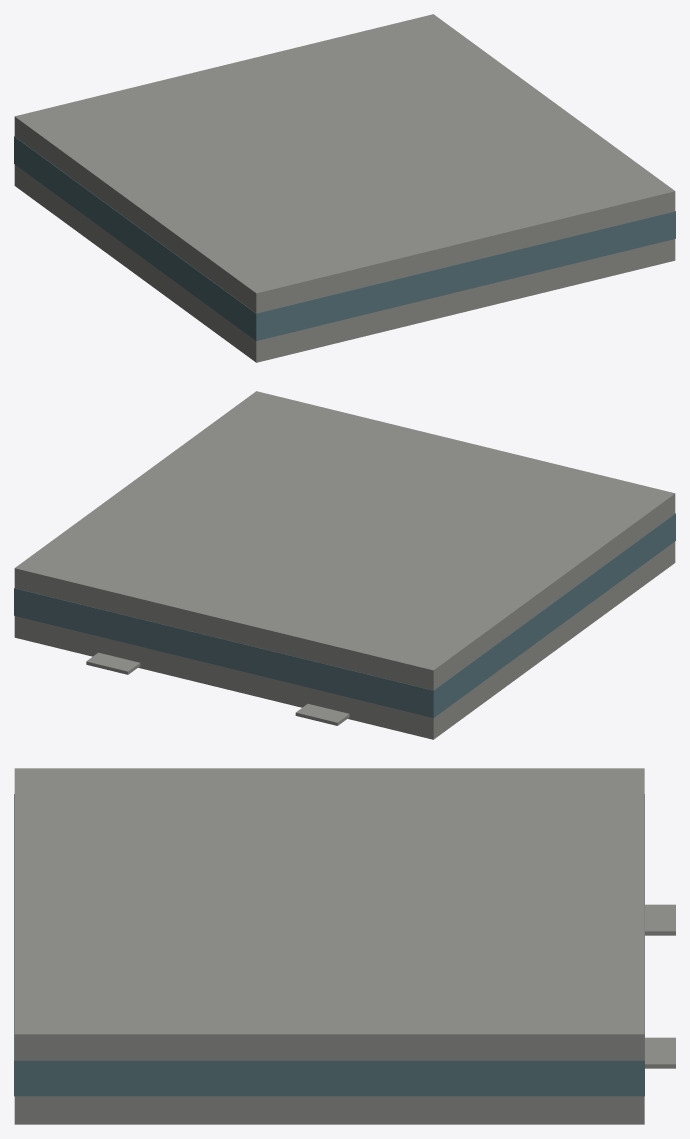
Rendered from tw_slab_24_floor_lod1.glb.
The picture shows the model from 3 angles, top to bottom: view 1: azimuth 30°, elevation 25°; view 2: azimuth 150°, elevation 25°; view 3: azimuth 270°, elevation 25°; orthographic projection. The views are drawn at different scales.
Visible parts, largest first — view 1: tw_slab_24_floor_lod1; view 2: tw_slab_24_floor_lod1; view 3: tw_slab_24_floor_lod1.
Part boxes in pixels (x1,y1,x2,y2): tw_slab_24_floor_lod1: (14, 14, 675, 362); tw_slab_24_floor_lod1: (14, 391, 675, 739); tw_slab_24_floor_lod1: (14, 768, 675, 1124).
Size of the model in its own units: 24.04 by 3.8 by 25.22.
2 materials, 2 textured.
